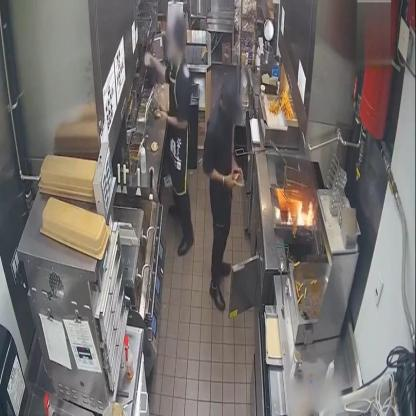fire: (284, 199, 316, 228)
